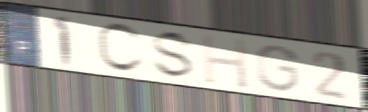1: (48, 14, 75, 69)
2: (311, 50, 350, 102)
C: (94, 21, 147, 75)
G: (255, 43, 301, 93)
H: (199, 32, 251, 92)
S: (149, 29, 197, 81)
